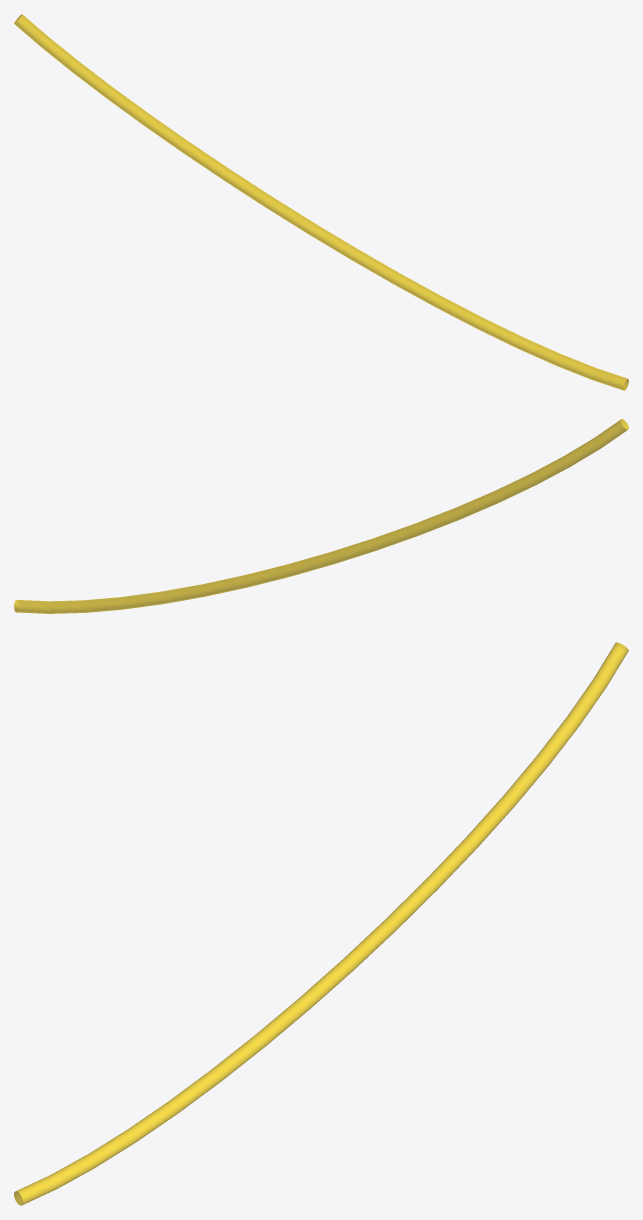
Rendered from Event_17758602_track_174.fbx.
3 renders of one model, top to bottom at view 1: azimuth 30°, elevation 25°; view 2: azimuth 210°, elevation 25°; view 3: azimuth 270°, elevation 25°, orthographic. The views are drawn at different scales.
Parts seen in each view (by area): view 1: Model; view 2: Model; view 3: Model.
Boxes of the visible parts, bbox=[...] form: Model: bbox=[14, 14, 628, 390]; Model: bbox=[14, 419, 628, 613]; Model: bbox=[14, 642, 628, 1205].
Bounding box in the file's own units: 1.34 × 0.9808 × 1.57.
